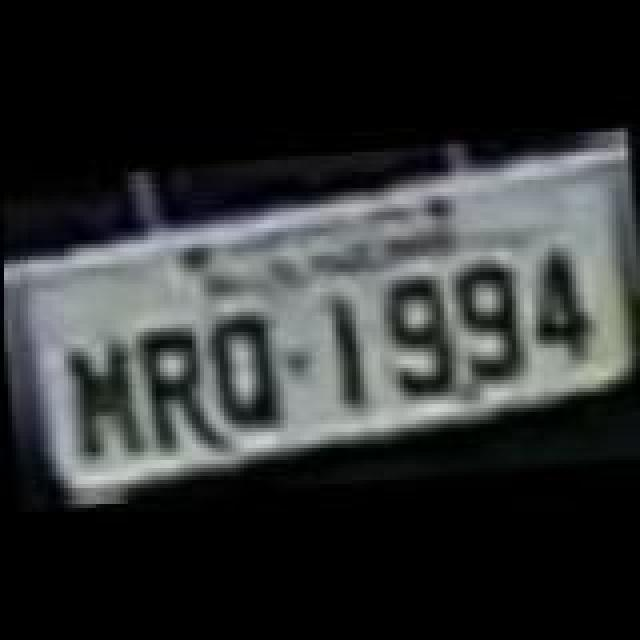1: (318, 290, 378, 414)
4: (524, 242, 604, 374)
9: (446, 258, 530, 394), (380, 278, 460, 398)
M: (64, 334, 148, 466)
Q: (204, 306, 284, 434)
R: (136, 320, 220, 452)
